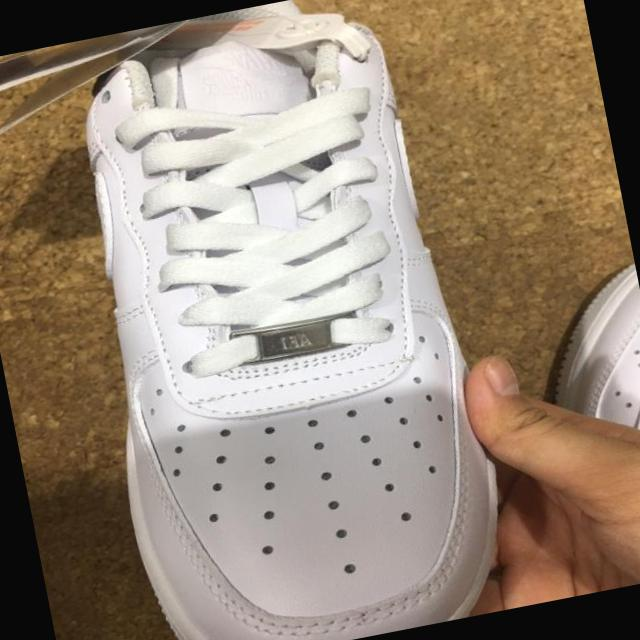nike_original_airforce: (37, 0, 522, 640)
